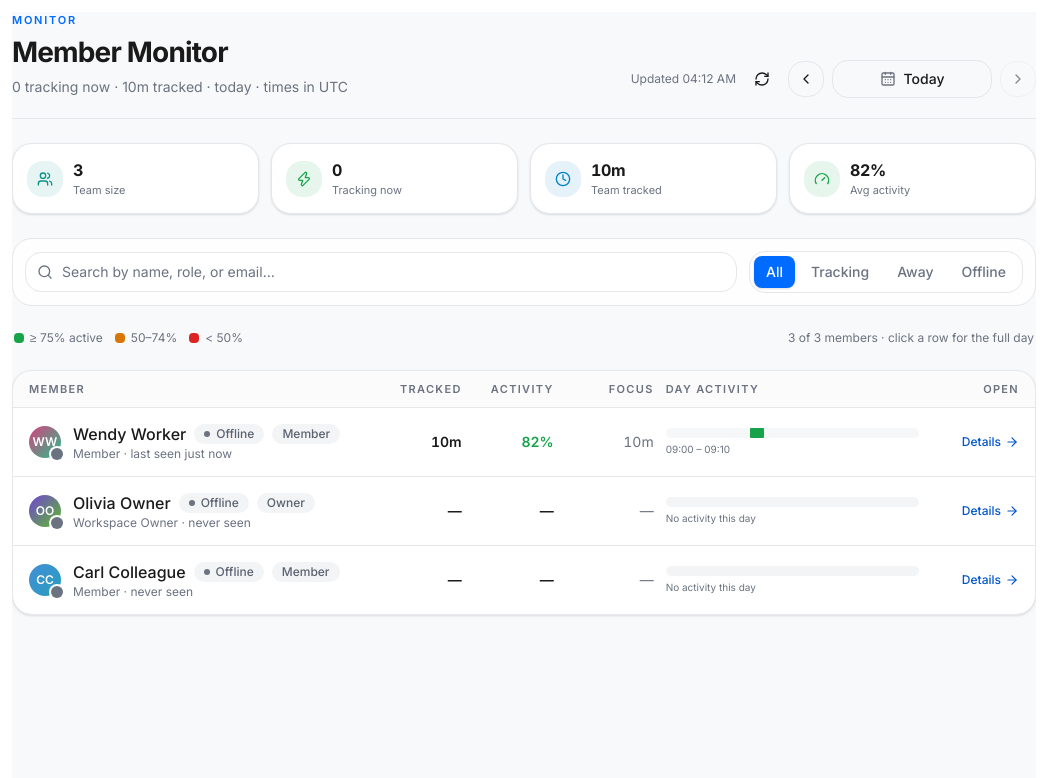
Scenario: monitor — live session › lists the real team for a manager and opens a member's real day
Expected: the text "Wendy Worker" is shown, [73,422,186,446]
Expected: the text "Carl Colleague" is shown, [73,560,186,584]
Click the button "Wendy Worker": (45,442) [13,408,1035,476]
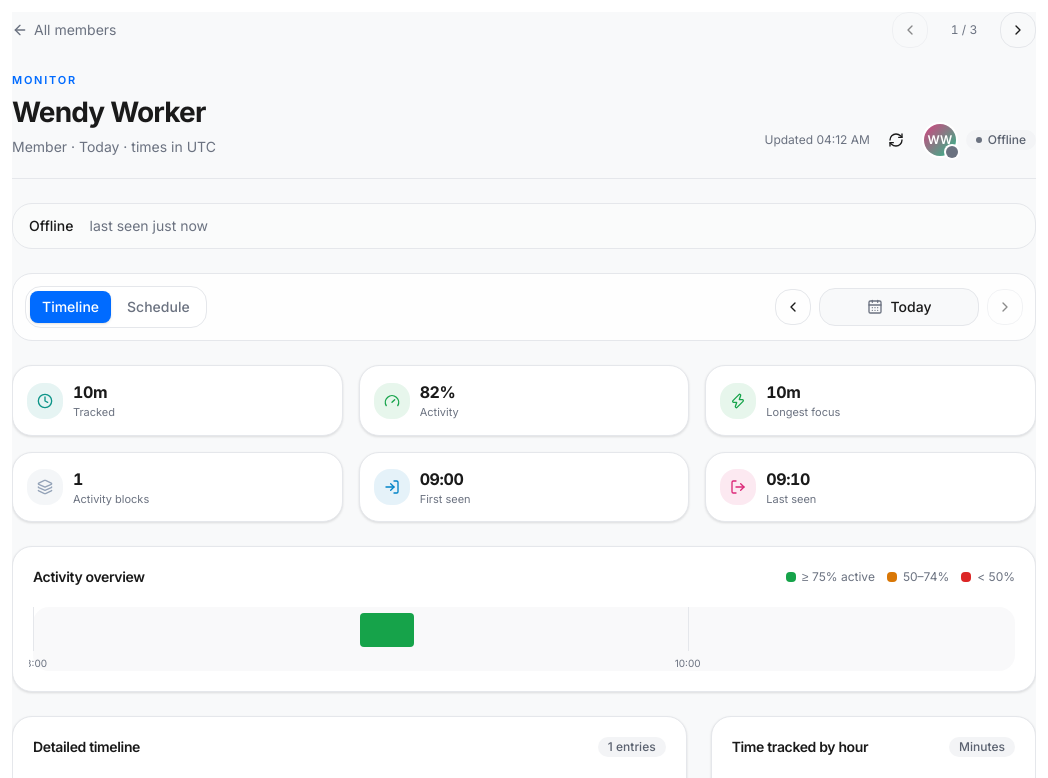
Expected: the heading "Wendy Worker" is shown, [12,94,216,130]
